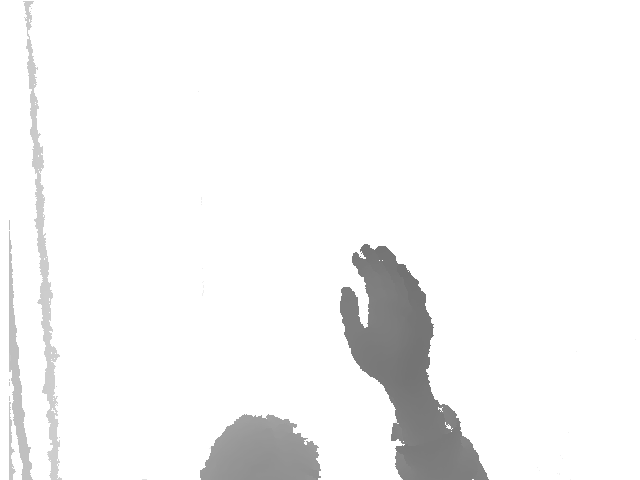hand: (338, 243, 434, 405)
head: (201, 413, 323, 480)
person: (202, 243, 489, 480)
